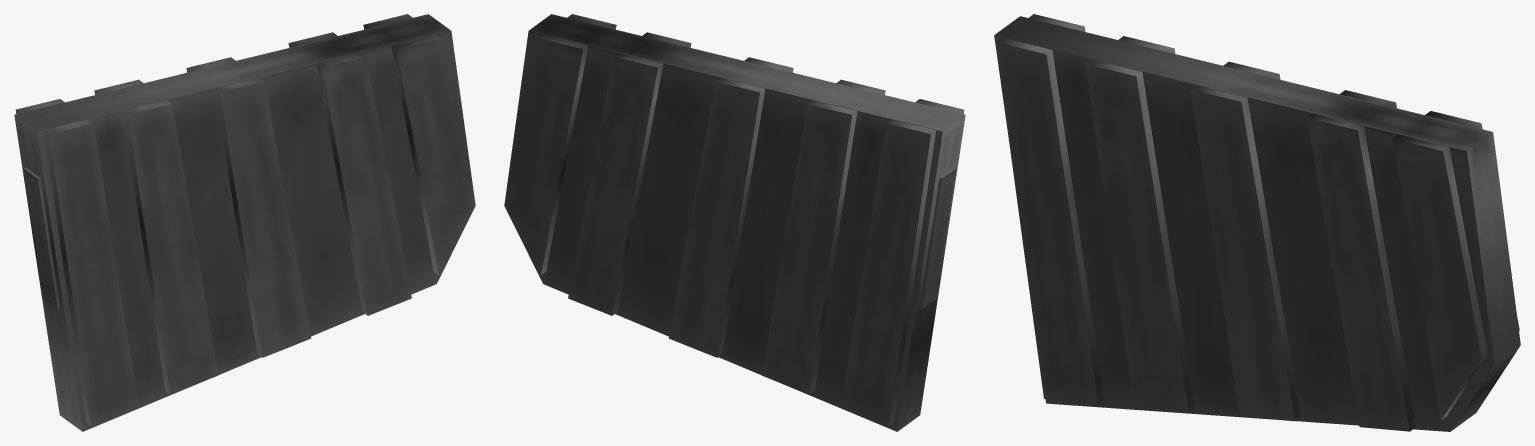
Rendered from sniper.glb.
3 renders of one model, left to right at view 1: azimuth 30°, elevation 25°; view 2: azimuth 150°, elevation 25°; view 3: azimuth 330°, elevation 25°, orthographic. The views are drawn at different scales.
Parts seen in each view (by area): view 1: Sniper_Ammo; view 2: Sniper_Ammo; view 3: Sniper_Ammo.
Part boxes in pixels (box(x1,y1,x2,y2)): Sniper_Ammo: box(14, 14, 475, 431); Sniper_Ammo: box(504, 14, 965, 431); Sniper_Ammo: box(994, 14, 1520, 431).
Size of the model in its own units: 1.1 by 0.7497 by 0.1459.
1 material, 1 textured.
